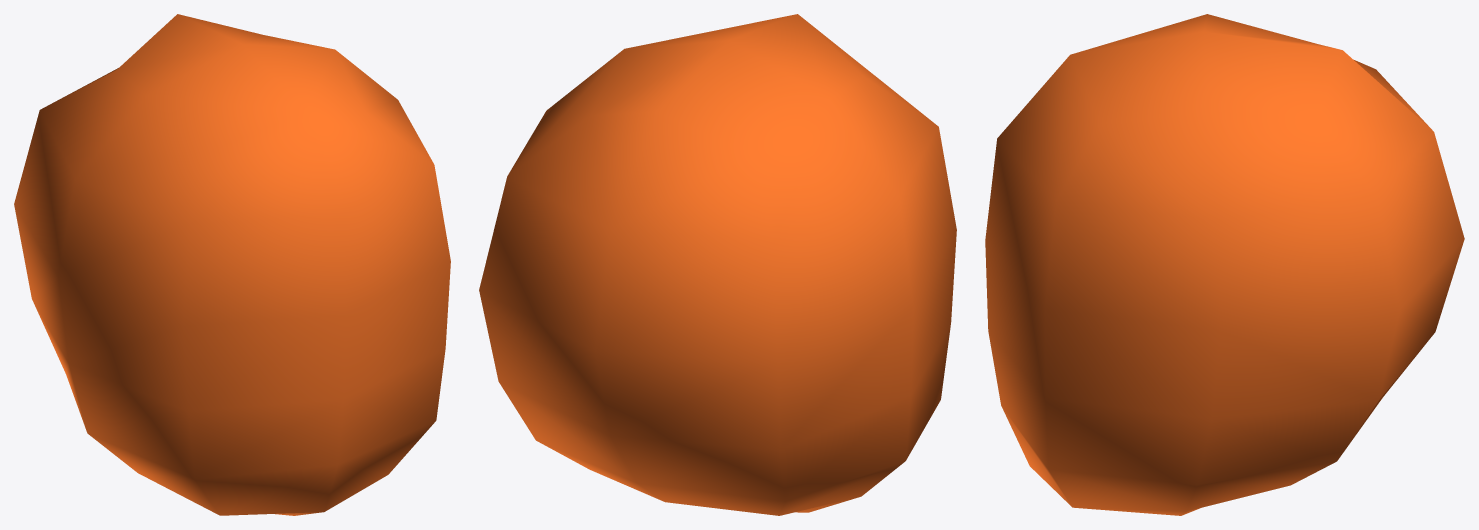
File: mii_head_natural.obj
3 views of the same model, side by side, from view 1: azimuth 30°, elevation 25°; view 2: azimuth 150°, elevation 25°; view 3: azimuth 270°, elevation 25° (orthographic). The views are drawn at different scales.
Visible parts, largest first — view 1: mii_head_natural; view 2: mii_head_natural; view 3: mii_head_natural.
Boxes of the visible parts, x1,y1,x2,y2 form: mii_head_natural: [14, 14, 450, 515]; mii_head_natural: [479, 14, 956, 515]; mii_head_natural: [985, 14, 1464, 515].
Size of the model in its own units: 0.1459 by 0.1713 by 0.1611.
